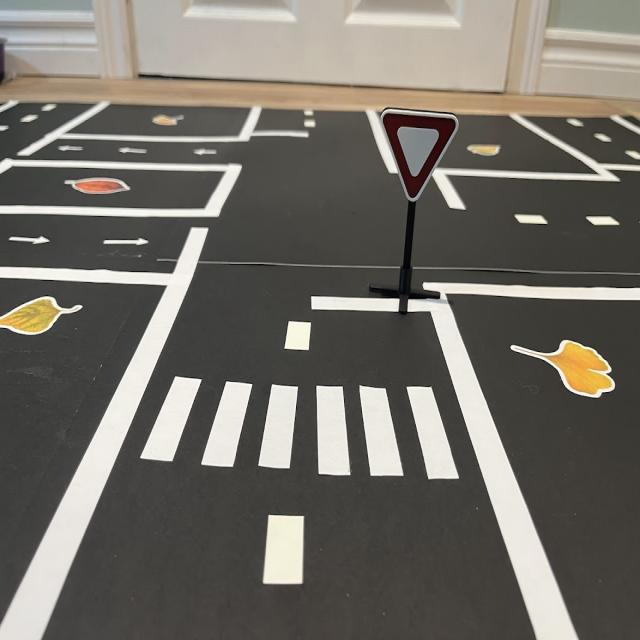road_crosswalk: (129, 364, 471, 485)
road_oneway: (96, 231, 151, 251), (4, 229, 51, 248), (56, 140, 88, 157), (120, 145, 150, 160), (191, 145, 221, 159)
sign_yield: (388, 111, 459, 204)
